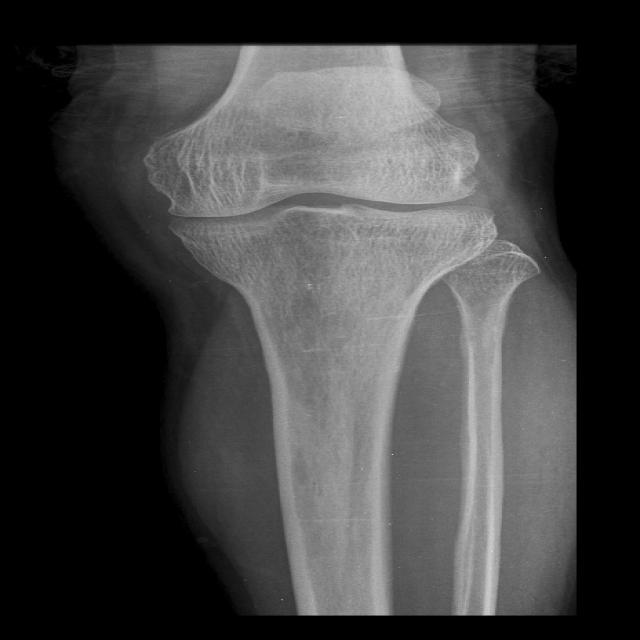osteo: (127, 123, 507, 255)
